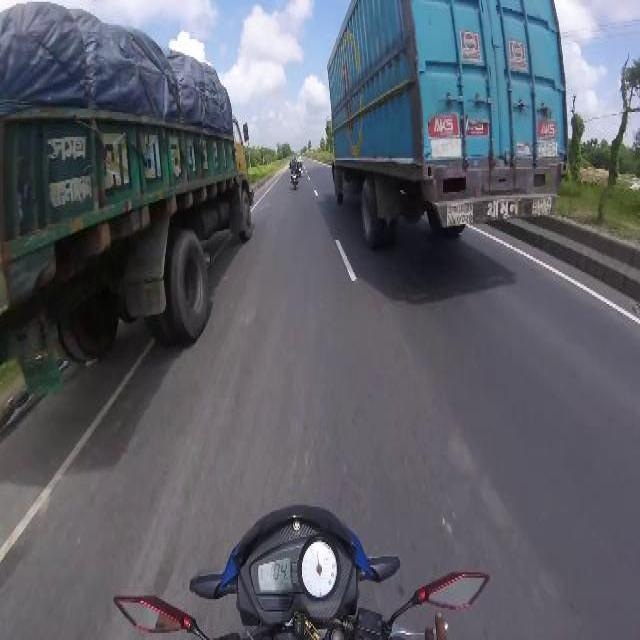motorbike: (110, 509, 492, 639), (288, 156, 298, 190), (297, 156, 303, 178)
truck: (5, 5, 254, 361), (323, 4, 567, 244)
